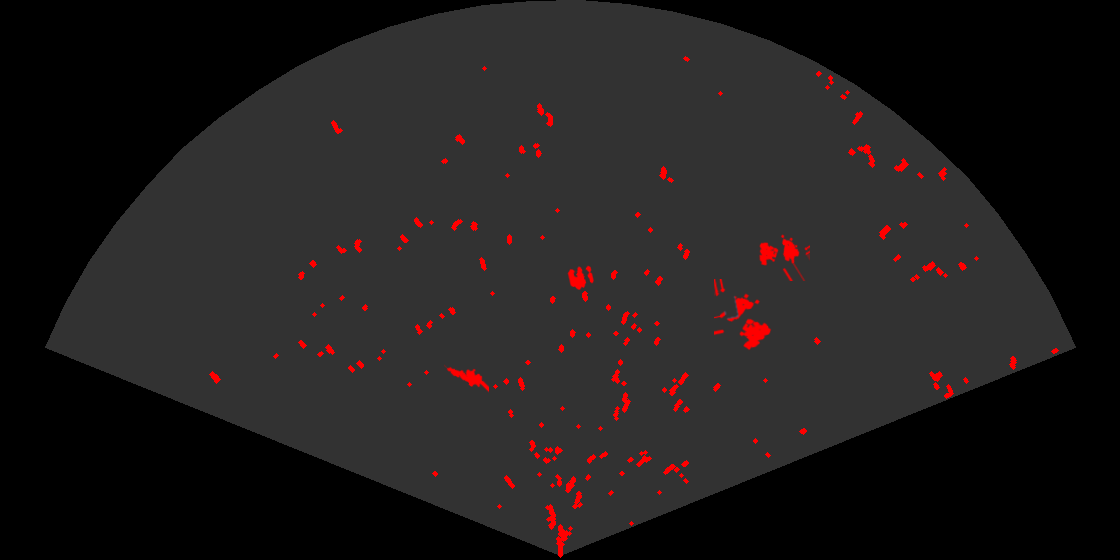ball: (566, 264, 595, 291)
cage: (714, 279, 773, 352), (757, 233, 810, 281)
frogman: (444, 363, 489, 394)
